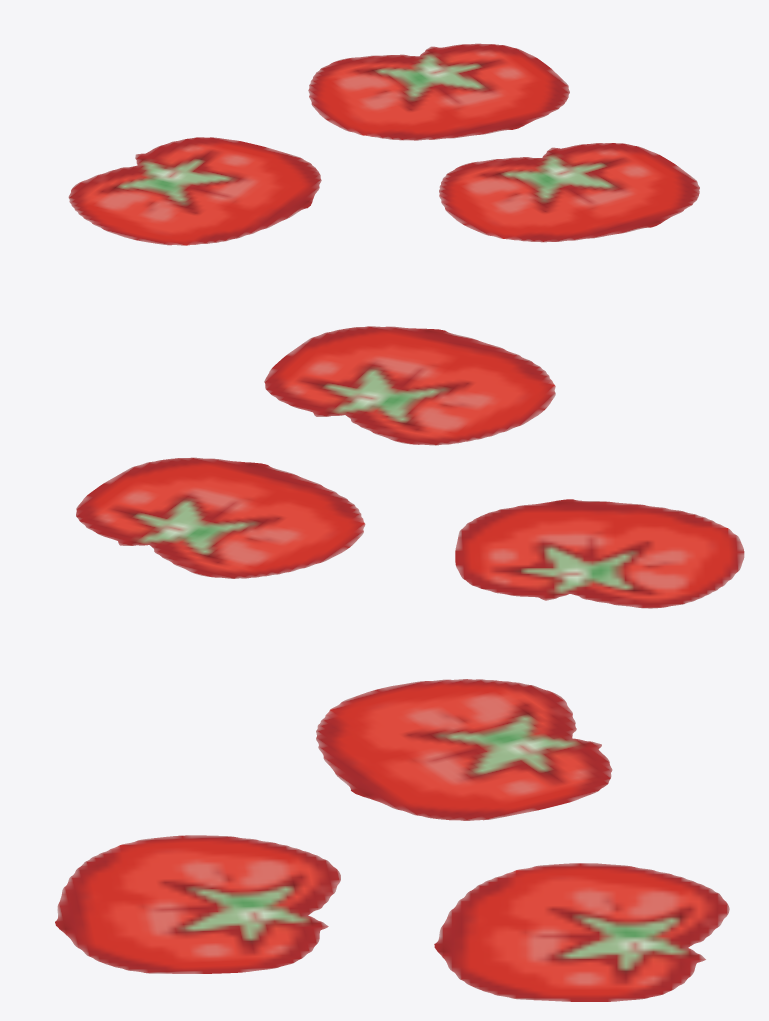
File: giftgoods111h.fbx
3 views of the same model, one above another, from view 1: azimuth 30°, elevation 25°; view 2: azimuth 150°, elevation 25°; view 3: azimuth 270°, elevation 25° (orthographic). The views are drawn at different scales.
Parts seen in each view (by area): view 1: giftgoods111h; view 2: giftgoods111h; view 3: giftgoods111h.
Boxes of the visible parts, x1,y1,x2,y2 form: giftgoods111h: [68, 43, 699, 245]; giftgoods111h: [76, 326, 744, 608]; giftgoods111h: [55, 679, 729, 1001].
Bounding box in the file's own units: 0.6066 × 0.0132 × 0.5372.
